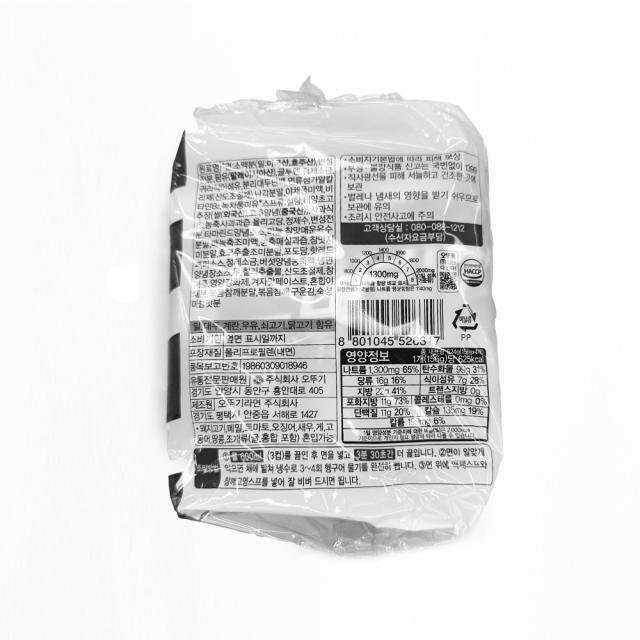Nutrition Label: (336, 340, 492, 449)
